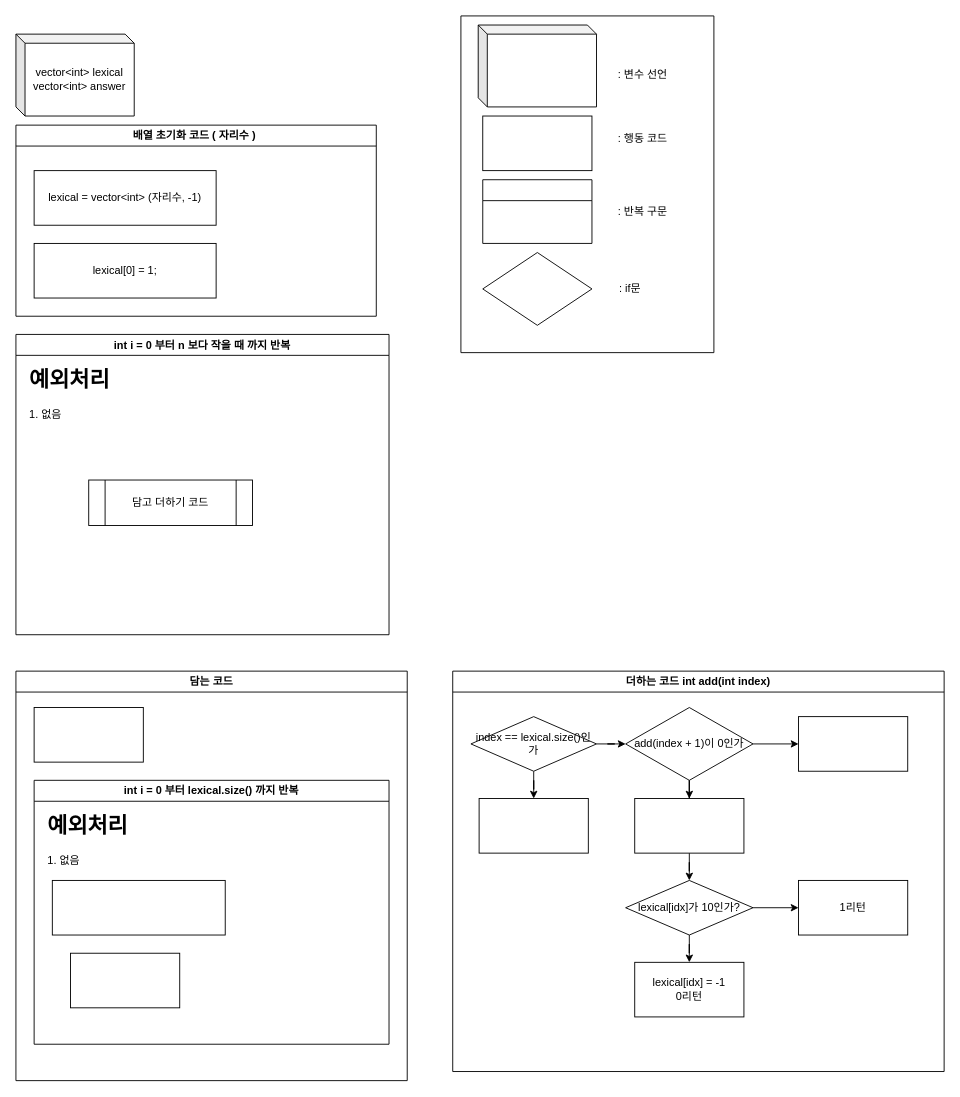
Some shapes in this 960 by 1097 pixel diagram are drawn without their labels. Each missing label, with the centre of its shape:
0리턴: the point at 533,825
int ret = 0;: the point at 88,734
lexical[i] == -1 이면 ret 리턴: the point at 138,907
lexical[idx]++: the point at 689,825
ret *= 10 ret += lexical[i]: the point at 125,980
return 1: the point at 853,743
~ 동안: the point at 537,211
